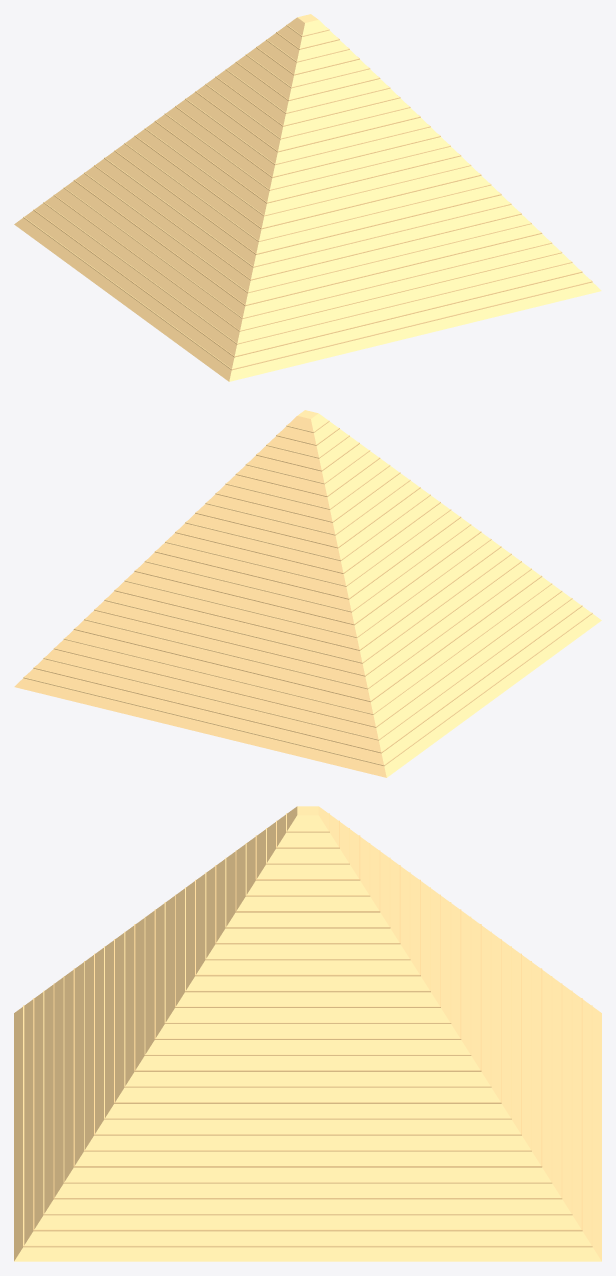
Rendered from giza-khufu-ruin.glb.
3 views of the same model, one above another, from view 1: azimuth 30°, elevation 25°; view 2: azimuth 150°, elevation 25°; view 3: azimuth 270°, elevation 25° (orthographic). The views are drawn at different scales.
Size of the model in its own units: 226 by 139 by 226.
